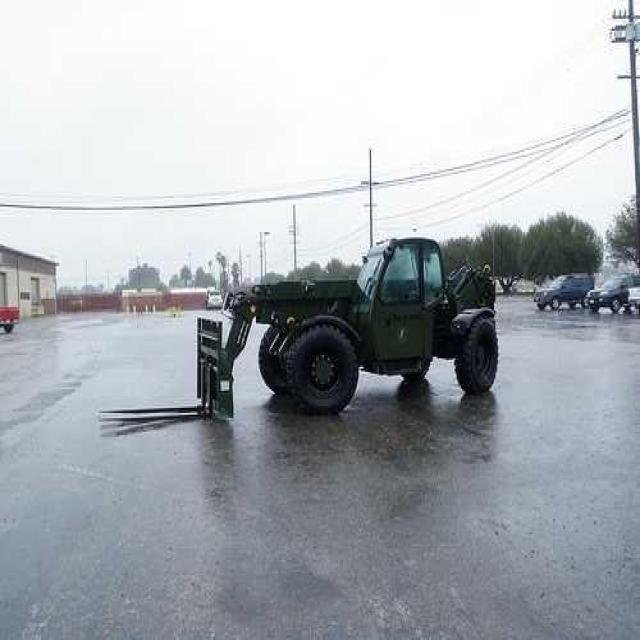forklift: (192, 232, 498, 423)
